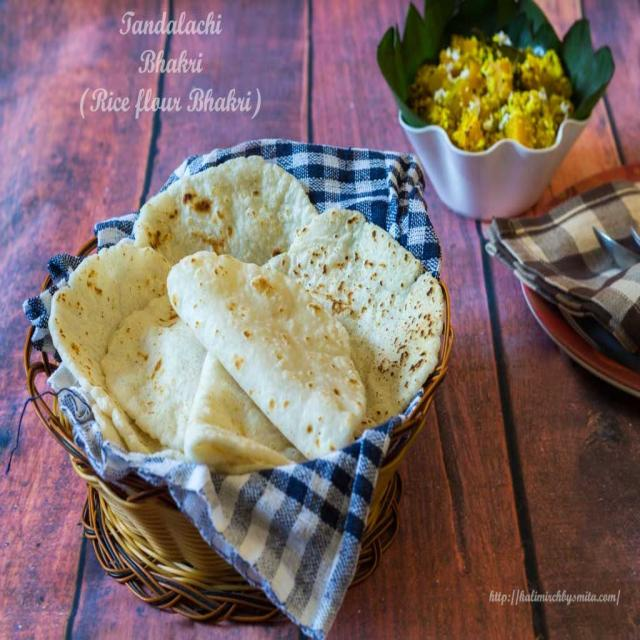RICE BHAKRI: (160, 249, 369, 455), (275, 213, 439, 435), (46, 241, 180, 417), (140, 155, 316, 263)
